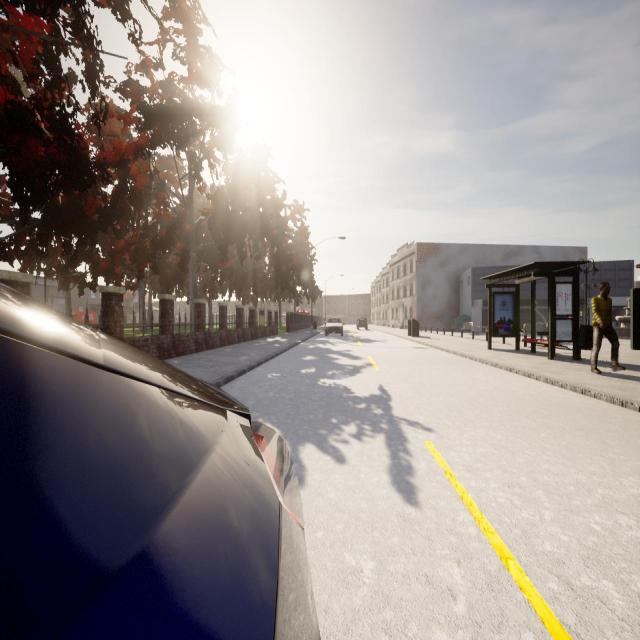Pedestrian: (591, 282, 625, 373)
Vehicle: (0, 287, 319, 640), (324, 316, 344, 336), (356, 316, 368, 330)
